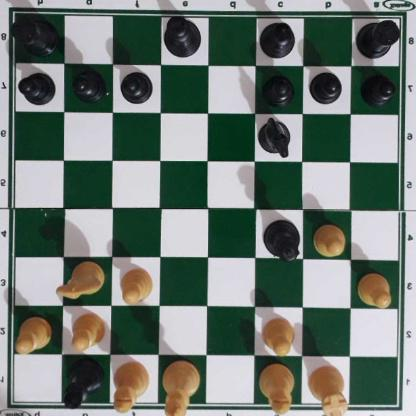black-bishop: (63, 358, 104, 411), (258, 21, 299, 58)
black-king: (164, 15, 203, 58)
black-knight: (258, 116, 293, 157)
black-pawn: (20, 69, 56, 105), (121, 68, 154, 102), (362, 72, 396, 104), (73, 67, 105, 101), (312, 70, 343, 104), (264, 71, 294, 105)
black-queen: (262, 218, 302, 261)
black-rook: (357, 15, 404, 58), (14, 11, 58, 55)
white-bishop: (257, 363, 297, 416), (112, 361, 151, 414)
white-king: (162, 360, 201, 416)
white-knight: (56, 259, 104, 300)
white-pawn: (71, 311, 107, 350), (16, 315, 53, 352), (263, 315, 298, 354), (358, 271, 394, 307), (121, 266, 154, 304), (313, 222, 348, 256)
white-rook: (308, 363, 350, 416)
